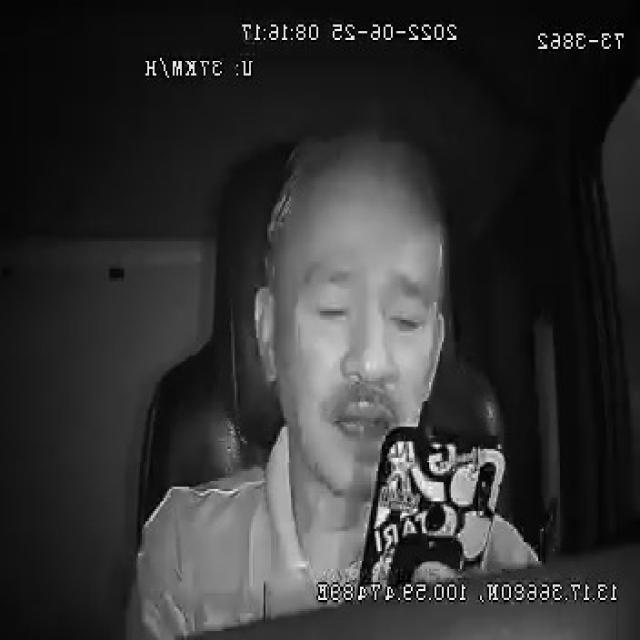phone: (357, 426, 510, 584)
